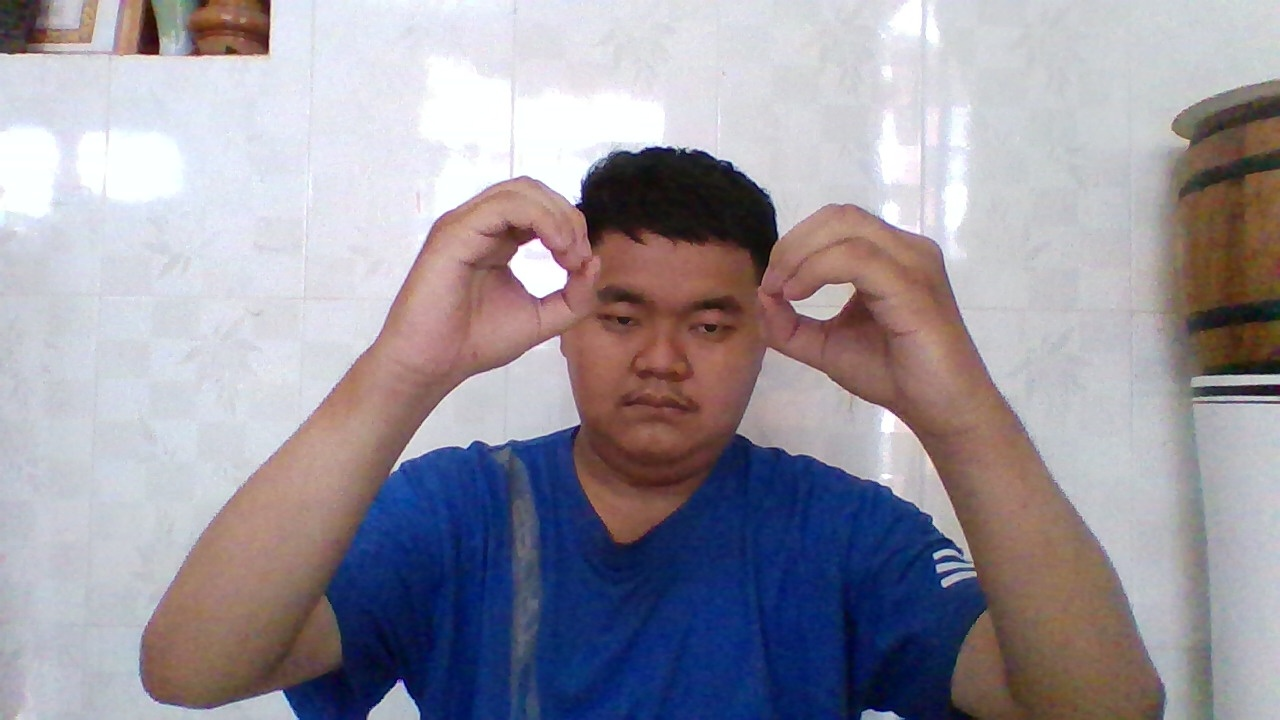O: (743, 196, 969, 429), (415, 170, 611, 380)
